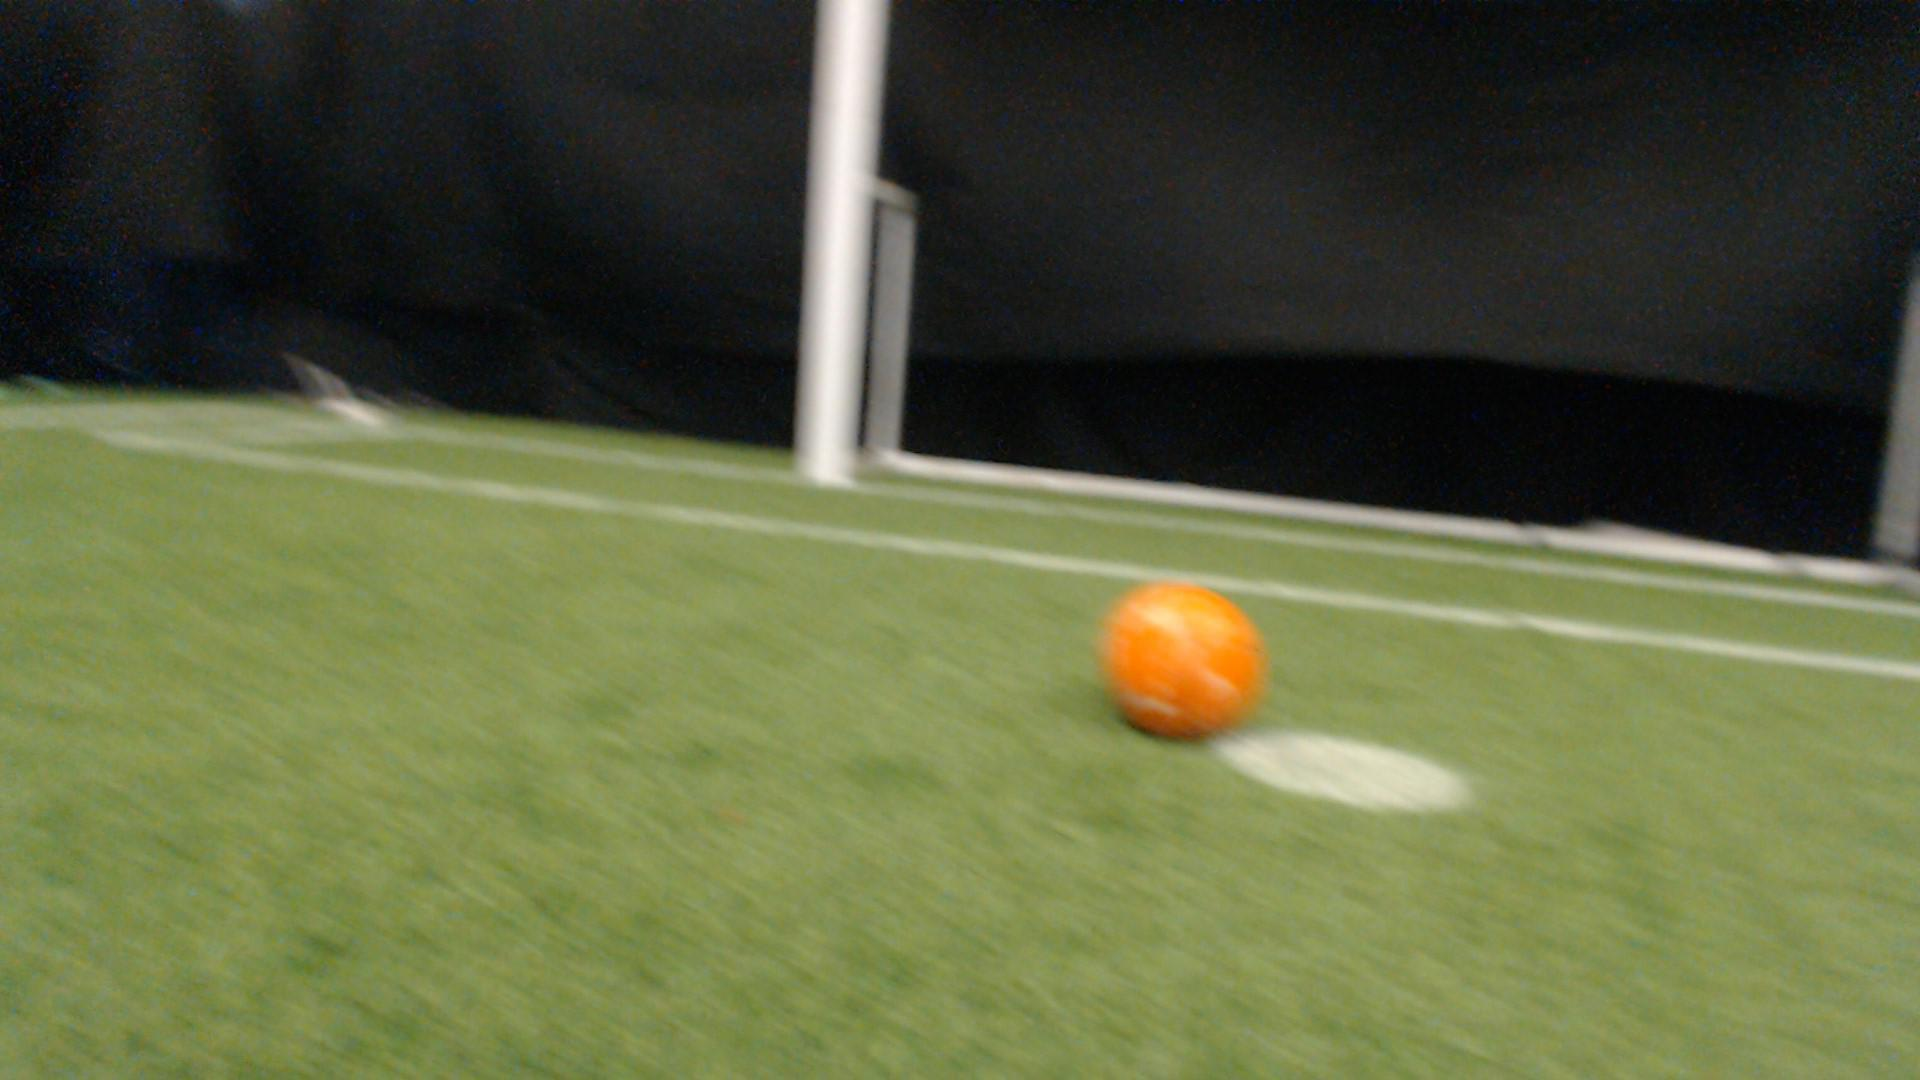bola: (1091, 559, 1278, 744)
